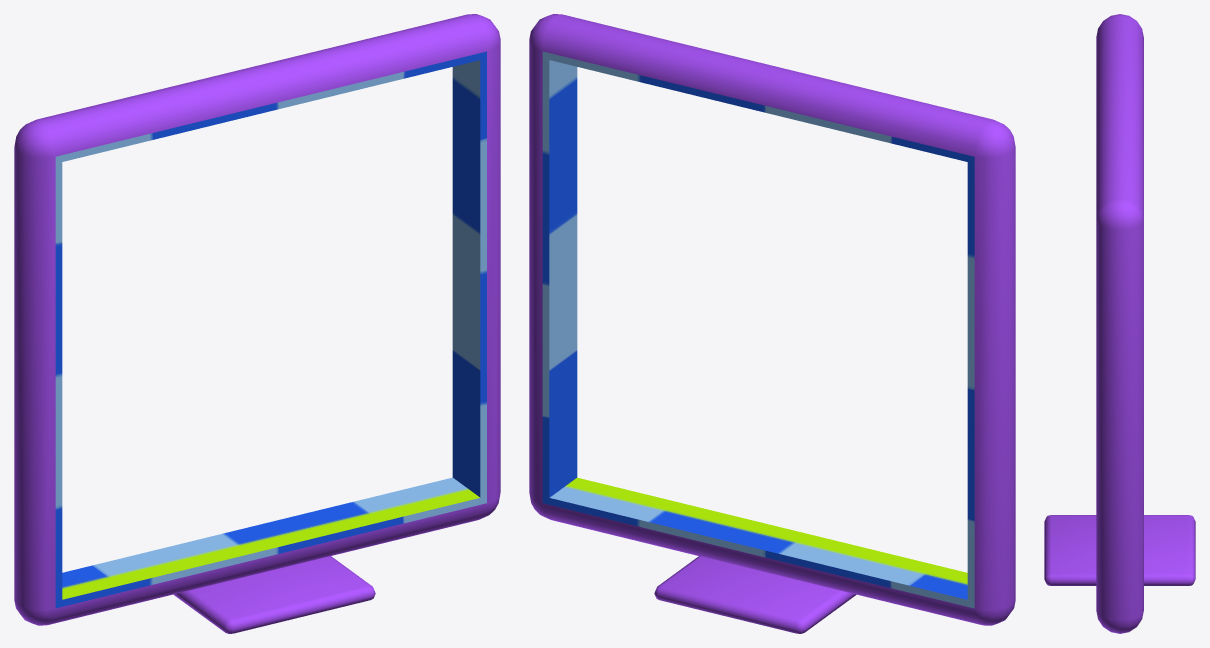
Rendered from LightTable07_3.FBX.
3 renders of one model, left to right at view 1: azimuth 30°, elevation 25°; view 2: azimuth 150°, elevation 25°; view 3: azimuth 270°, elevation 25°, orthographic. The views are drawn at different scales.
Parts seen in each view (by area): view 1: LightTable07_3; view 2: LightTable07_3; view 3: LightTable07_3.
Boxes of the visible parts, box(x1,y1,x2,y2) form: LightTable07_3: box(14, 14, 500, 633); LightTable07_3: box(529, 14, 1015, 633); LightTable07_3: box(1044, 14, 1195, 633).
Size of the model in its own units: 38 by 39.33 by 12.
